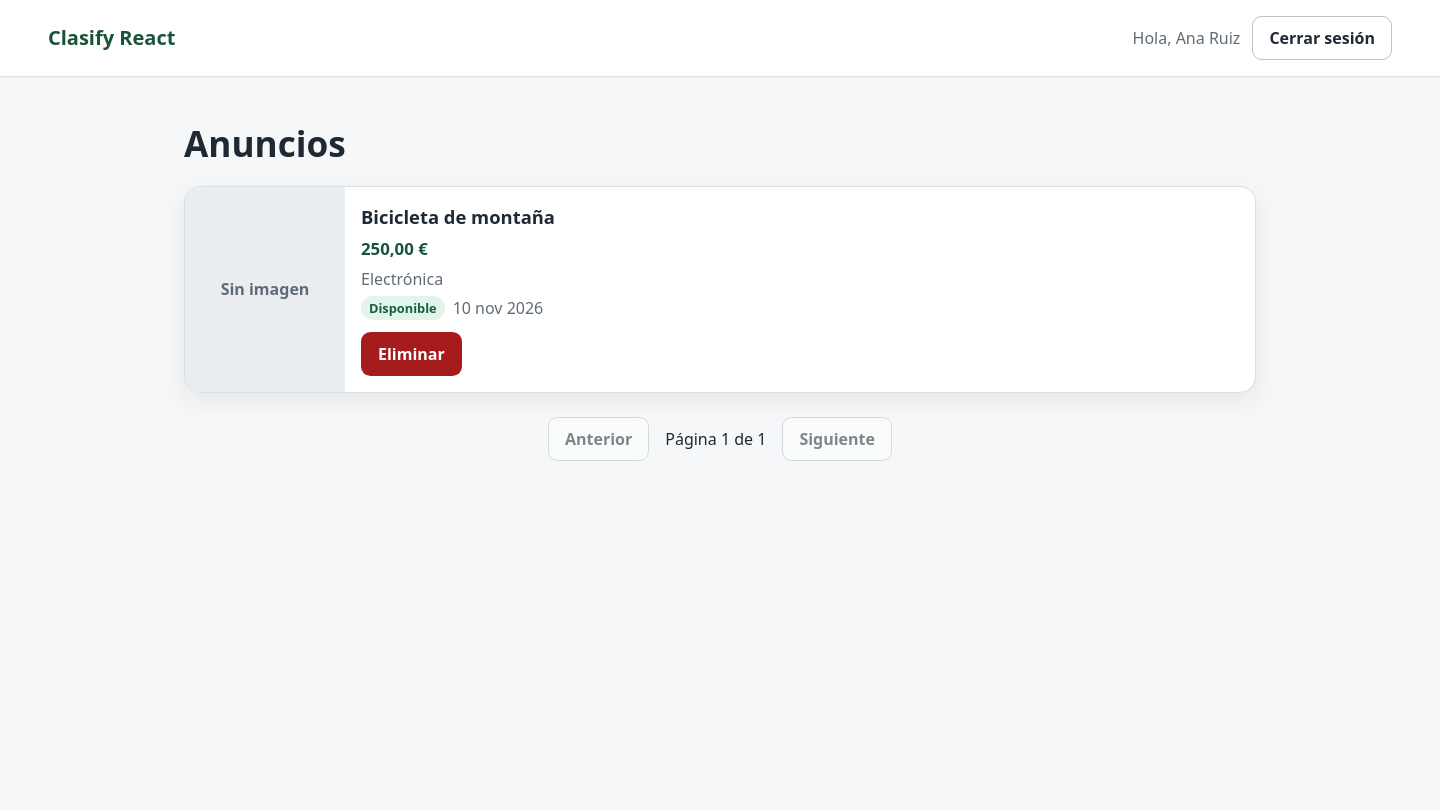
Test case: errores y fallos del frontend React › mantiene el diálogo y el anuncio si el backend falla por conexión
Step 1. Click the button with aria-label "Eliminar Bicicleta de montaña" → coordinates (411, 354), box [361,332,462,376]
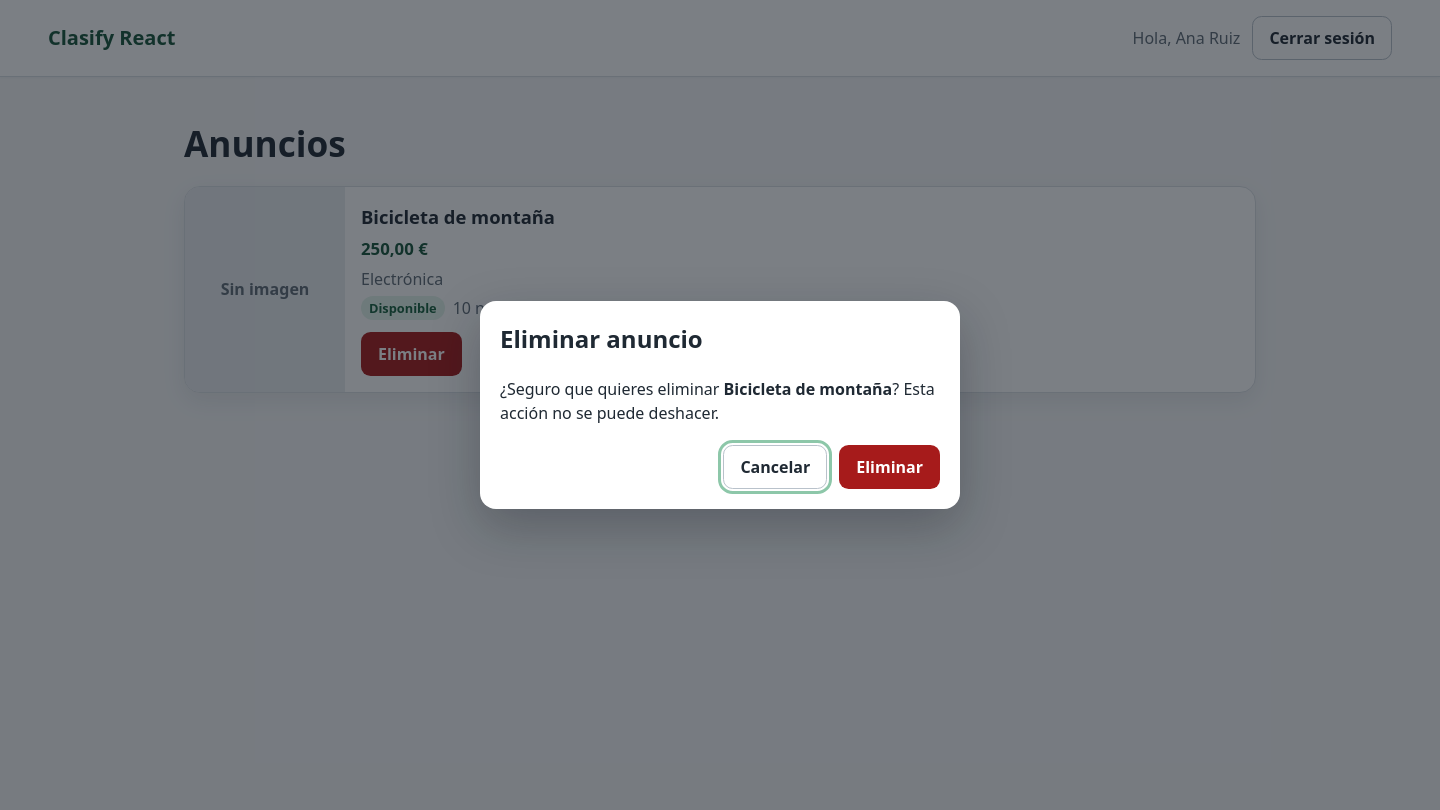
Step 2. Click the button "Eliminar" → coordinates (890, 467), box [839,445,940,489]
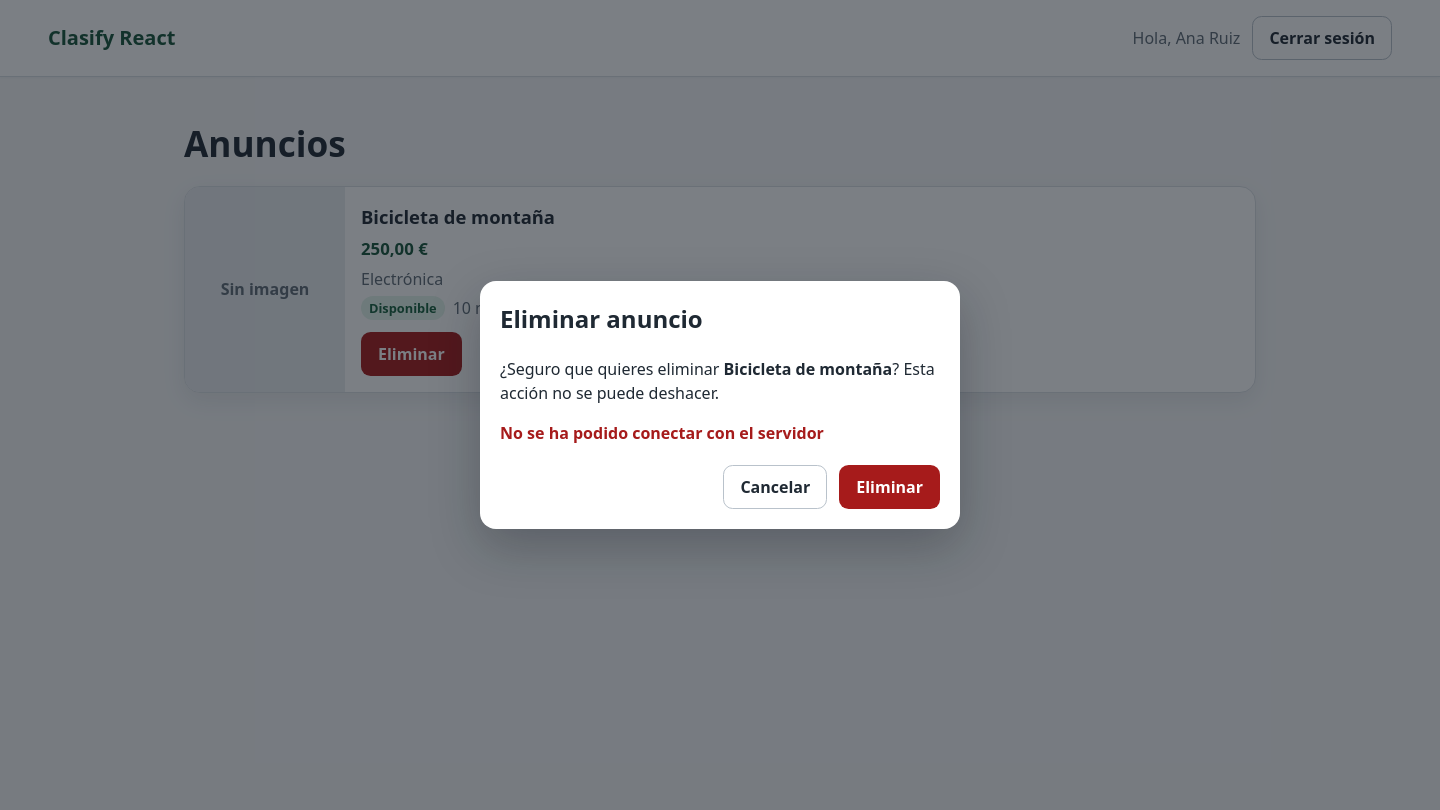
Expected: the dialog is shown, [480,281,960,529]
Expected: the text "No se ha podido conectar con el servidor" is shown, [500,422,824,444]
